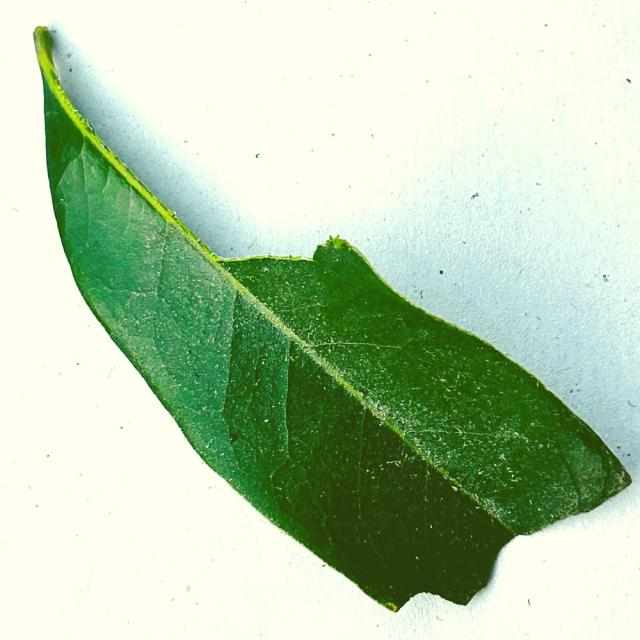Deficiency Leaf: (49, 20, 264, 257), (466, 463, 639, 637)
Lychee: (34, 28, 629, 609)
